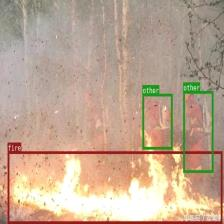fire: (8, 151, 222, 223)
